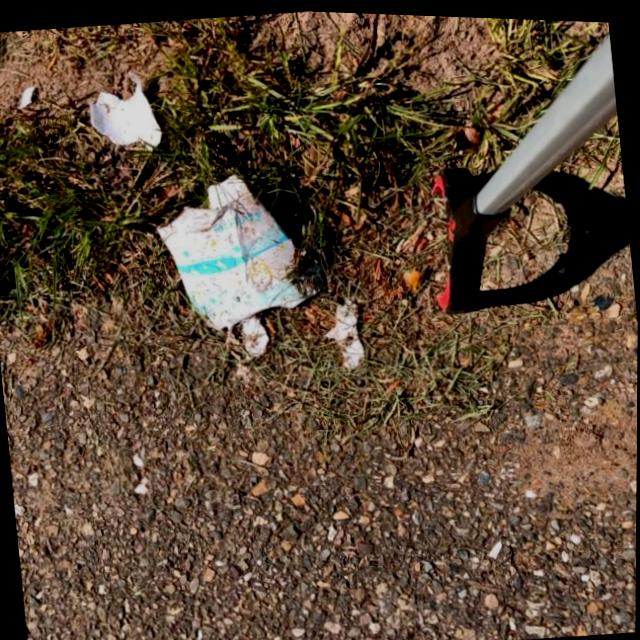Paper: (148, 159, 324, 340)
